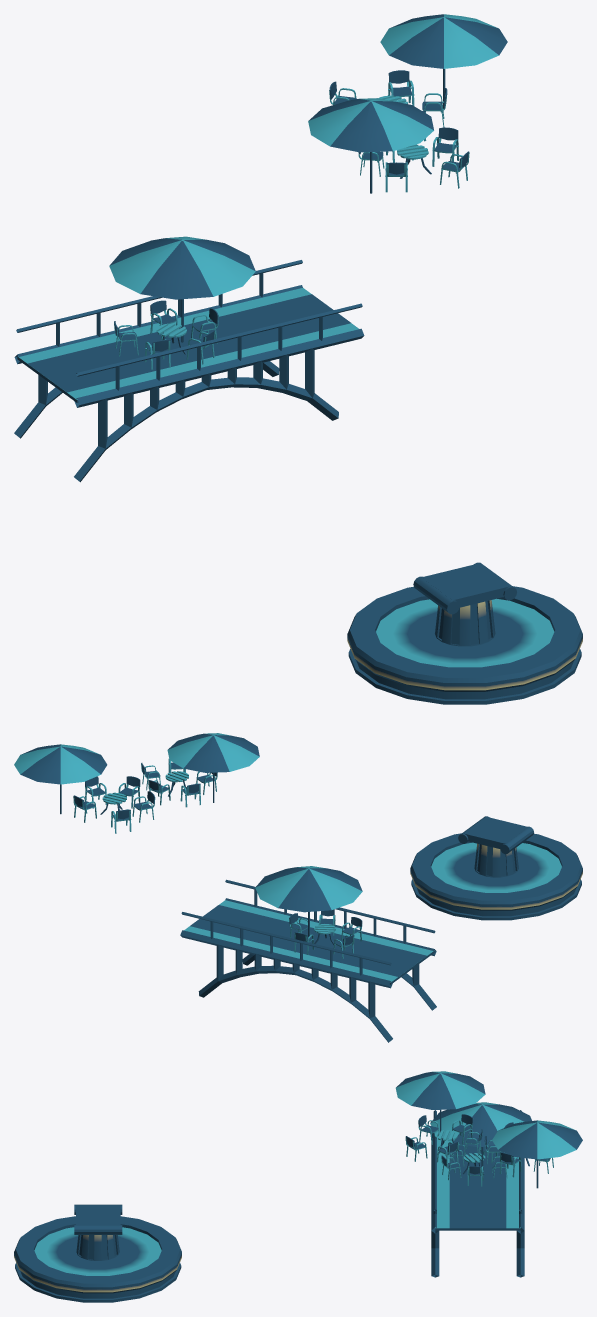
The model's file is Restaurant_LV5.FBX.
The picture shows the model from 3 angles, top to bottom: view 1: azimuth 30°, elevation 25°; view 2: azimuth 150°, elevation 25°; view 3: azimuth 270°, elevation 25°; orthographic projection. The views are drawn at different scales.
Visible parts, largest first — view 1: Restaurant; view 2: Restaurant; view 3: Restaurant.
Boxes of the visible parts, bbox=[...] form: Restaurant: bbox=[14, 14, 582, 704]; Restaurant: bbox=[14, 733, 582, 1042]; Restaurant: bbox=[14, 1071, 582, 1302].
Size of the model in its own units: 25.95 by 17.15 by 36.04.
